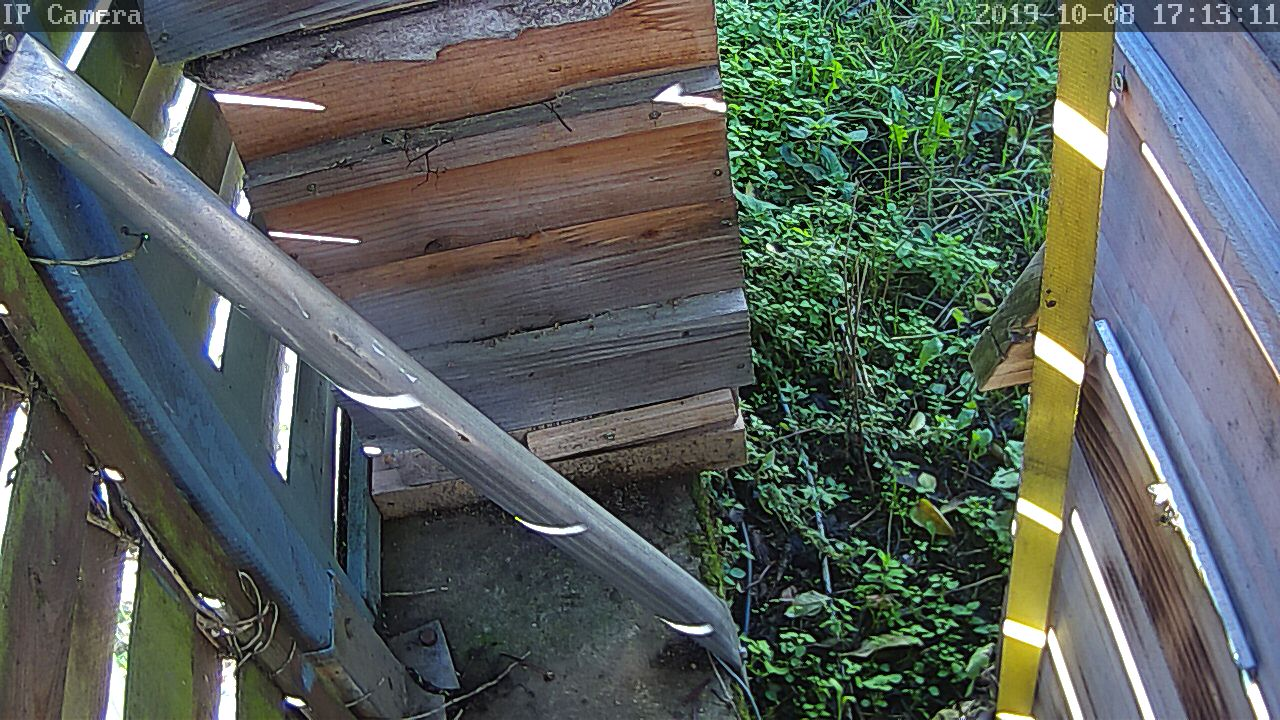bee: (1148, 504, 1181, 535)
